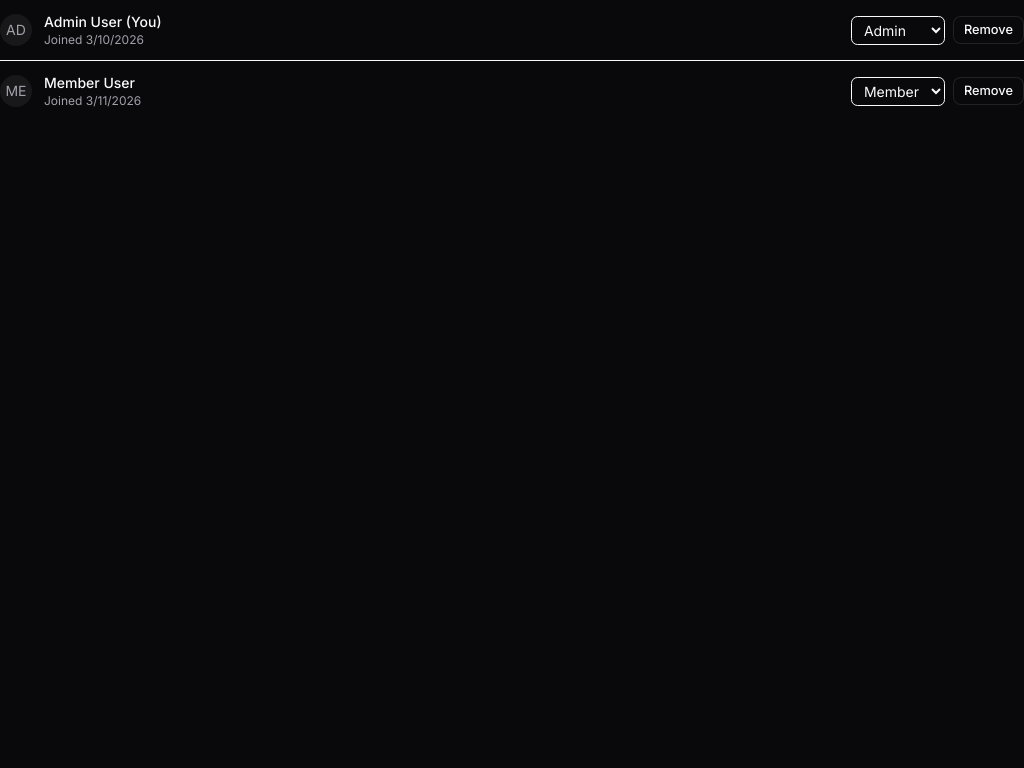
Test case: MemberManagementList › rolls back optimistic updates and shows API error
Step 1. Select "editor" in the dropdown named "Role for Admin User" → (898, 30), box [851,16,945,44]
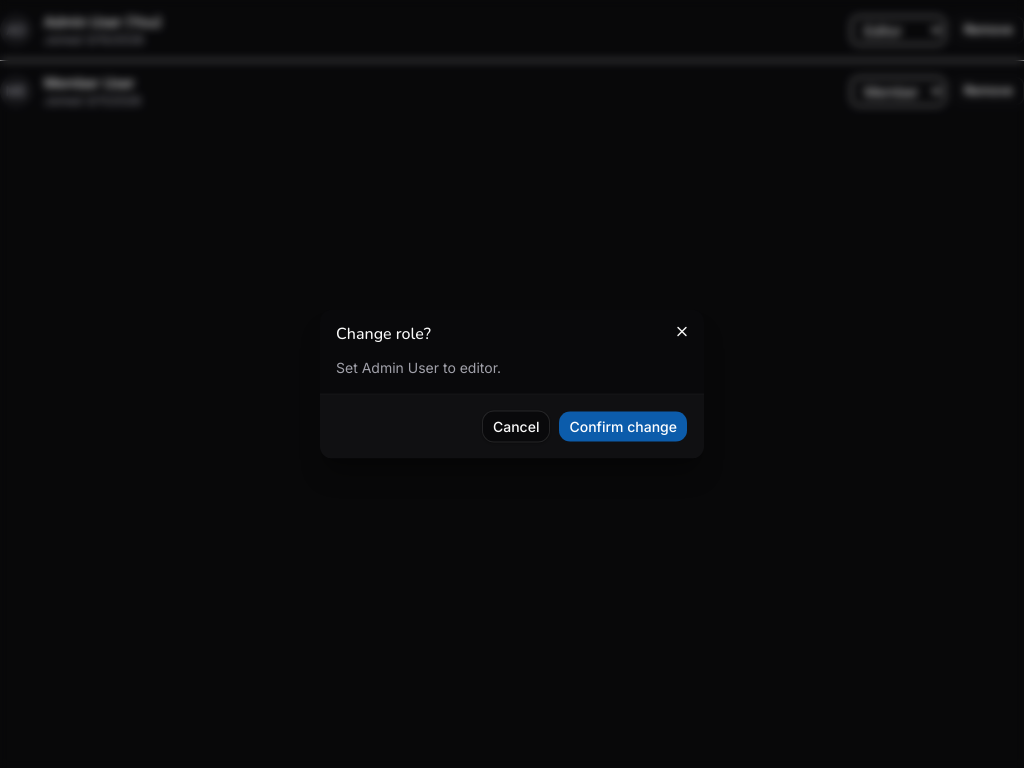
Step 2. Click the button "Confirm change" → (623, 426), box [558,410,688,442]
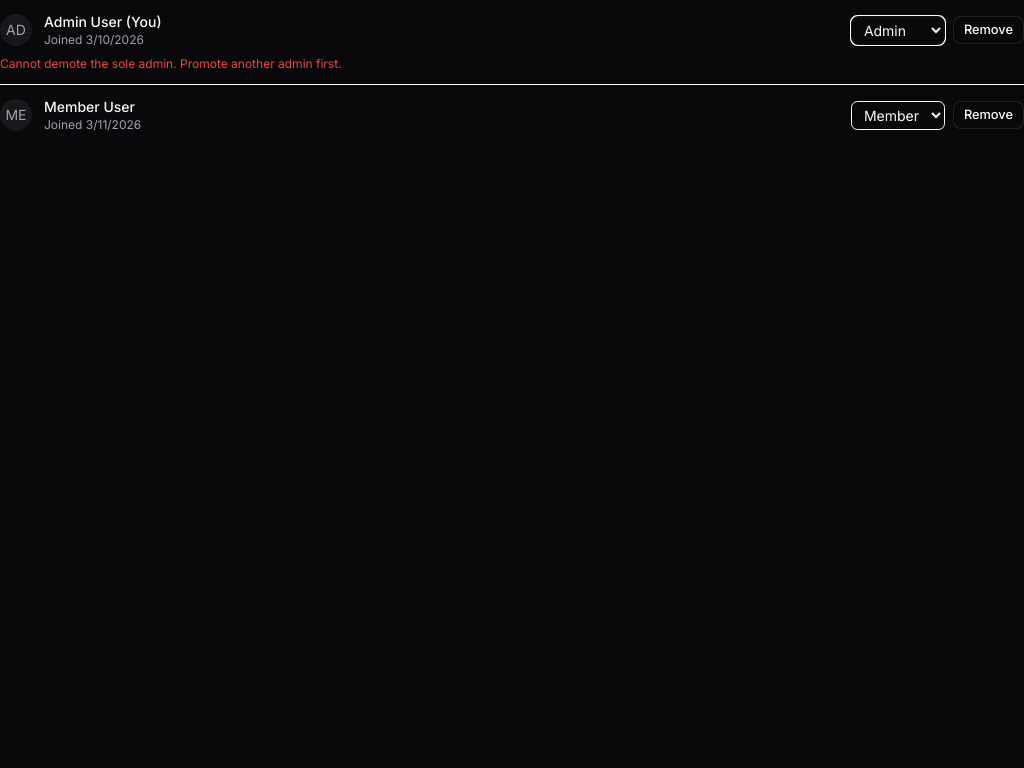
Now the text "Cannot demote the sole admin. Promote another admin first." is shown, box [0,56,342,71]
